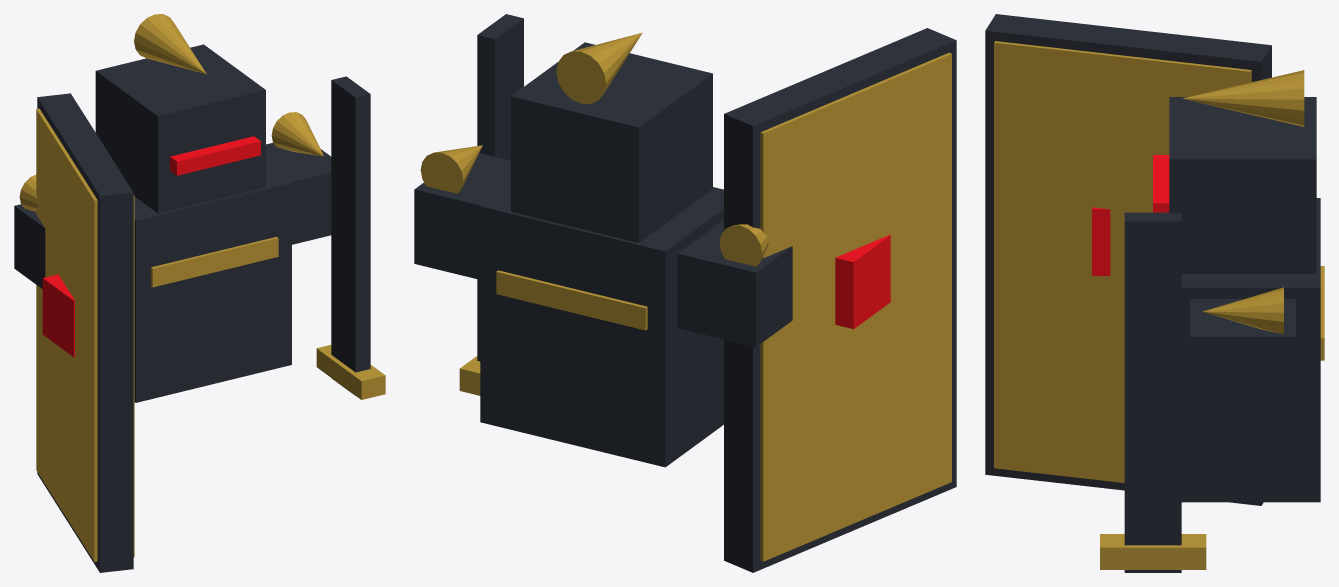
Rendered from cursed_knight.obj.
3 views of the same model, side by side, from view 1: azimuth 30°, elevation 25°; view 2: azimuth 150°, elevation 25°; view 3: azimuth 270°, elevation 25° (orthographic). The views are drawn at different scales.
Parts seen in each view (by area): view 1: Cuirass, Shield_Border, Helm, Tower_Shield, Sword_Blade, Shoulder_R, Gold_Trim, Helm_Crest, Shoulder_L, Shield_Boss_Spike, Visor_Slit, Sword_Guard (+2 smaller); view 2: Shield_Border, Cuirass, Helm, Tower_Shield, Shoulder_L, Shoulder_R, Sword_Blade, Shield_Boss_Spike, Gold_Trim, Helm_Crest, Shoulder_Spike_R, Shoulder_Spike_L (+1 smaller); view 3: Shield_Border, Helm, Cuirass, Sword_Blade, Tower_Shield, Shoulder_R, Helm_Crest, Sword_Guard, Shoulder_Spike_R, Shield_Boss_Spike, Visor_Slit, Gold_Trim.
Boxes of the visible parts, x1=… form: Cuirass: x1=134, y1=164, x2=291, y2=402; Shield_Border: x1=36, y1=108, x2=134, y2=561; Helm: x1=95, y1=44, x2=265, y2=213; Tower_Shield: x1=37, y1=93, x2=133, y2=572; Sword_Blade: x1=331, y1=76, x2=370, y2=395; Shoulder_R: x1=266, y1=143, x2=331, y2=244; Gold_Trim: x1=151, y1=236, x2=278, y2=287; Helm_Crest: x1=134, y1=14, x2=206, y2=74; Shoulder_L: x1=14, y1=204, x2=45, y2=288; Shield_Boss_Spike: x1=42, y1=274, x2=74, y2=357; Visor_Slit: x1=170, y1=136, x2=260, y2=175; Sword_Guard: x1=316, y1=345, x2=385, y2=399; Shield_Border: x1=760, y1=52, x2=951, y2=561; Cuirass: x1=480, y1=184, x2=723, y2=467; Helm: x1=511, y1=42, x2=712, y2=242; Tower_Shield: x1=724, y1=28, x2=956, y2=572; Shoulder_L: x1=677, y1=220, x2=792, y2=346; Shoulder_R: x1=414, y1=153, x2=510, y2=279; Sword_Blade: x1=477, y1=14, x2=523, y2=361; Shield_Boss_Spike: x1=835, y1=235, x2=890, y2=329; Gold_Trim: x1=496, y1=270, x2=647, y2=330; Helm_Crest: x1=556, y1=32, x2=642, y2=103; Shoulder_Spike_R: x1=420, y1=145, x2=482, y2=193; Shoulder_Spike_L: x1=719, y1=224, x2=768, y2=266; Shield_Border: x1=994, y1=41, x2=1251, y2=482; Helm: x1=1169, y1=97, x2=1316, y2=273; Cuirass: x1=1181, y1=198, x2=1320, y2=502; Sword_Blade: x1=1124, y1=212, x2=1181, y2=572; Tower_Shield: x1=985, y1=14, x2=1271, y2=505; Shoulder_R: x1=1190, y1=299, x2=1295, y2=410; Helm_Crest: x1=1182, y1=70, x2=1304, y2=126; Sword_Guard: x1=1100, y1=534, x2=1206, y2=569; Shoulder_Spike_R: x1=1203, y1=287, x2=1283, y2=333; Shield_Boss_Spike: x1=1092, y1=207, x2=1110, y2=275; Visor_Slit: x1=1153, y1=155, x2=1169, y2=212; Gold_Trim: x1=1320, y1=266, x2=1324, y2=360.
Bounding box in the file's own units: 1.1 × 1.33 × 0.831.
